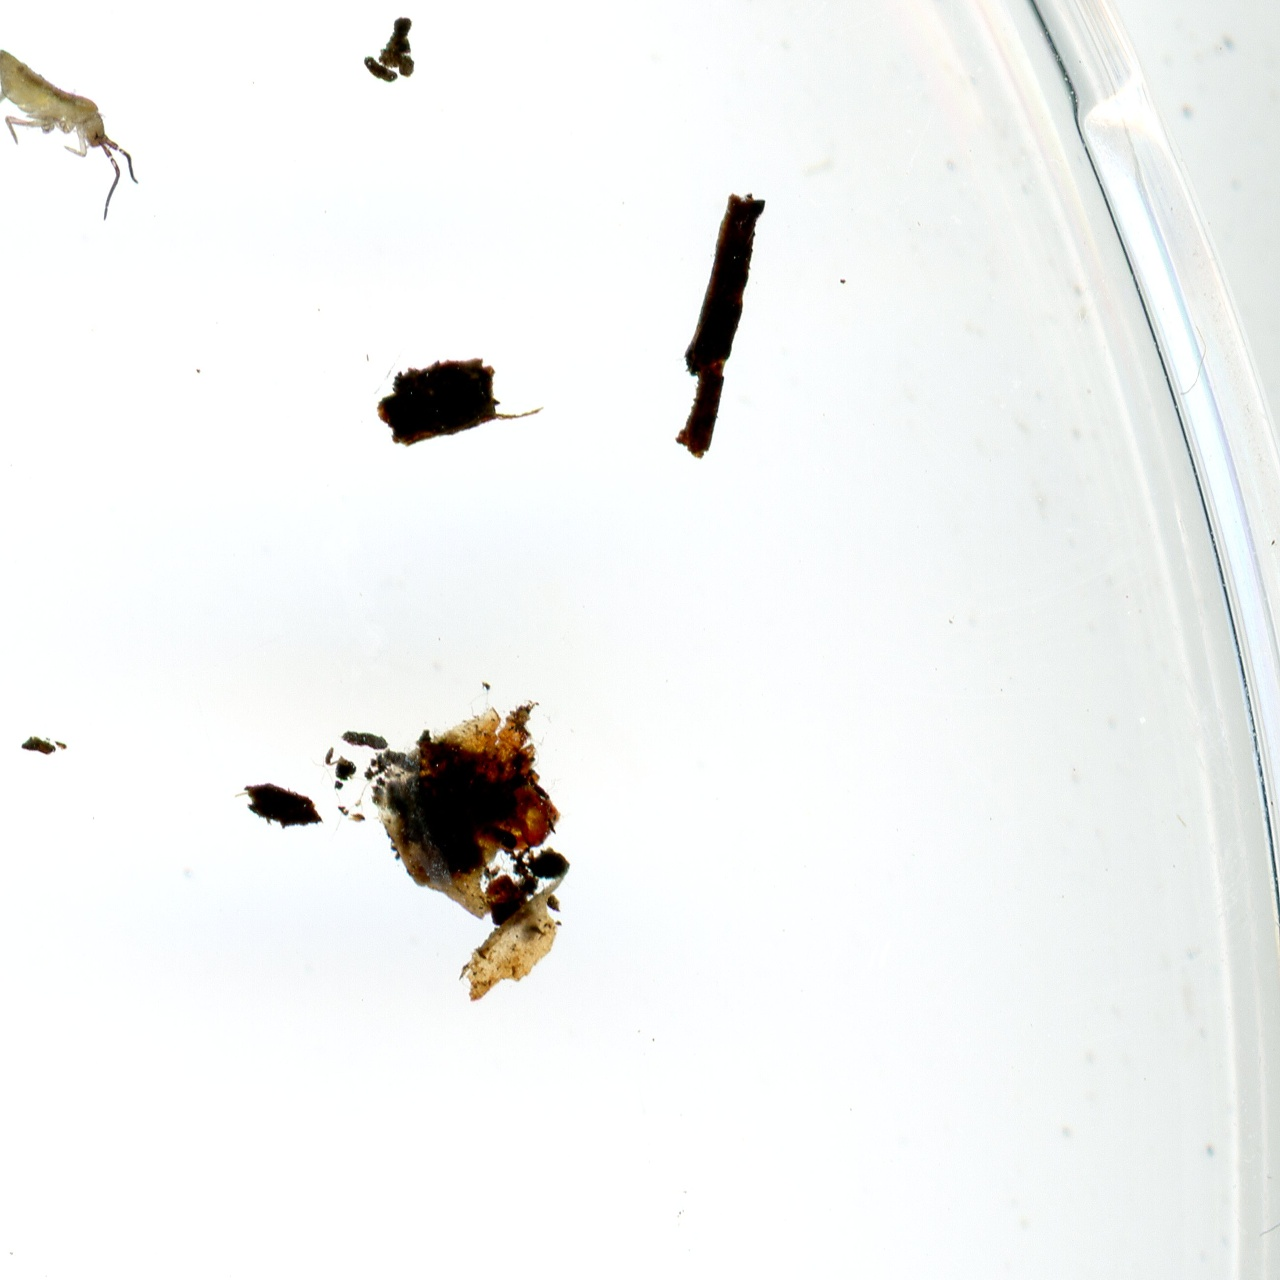arthropod: (0, 27, 170, 230)
